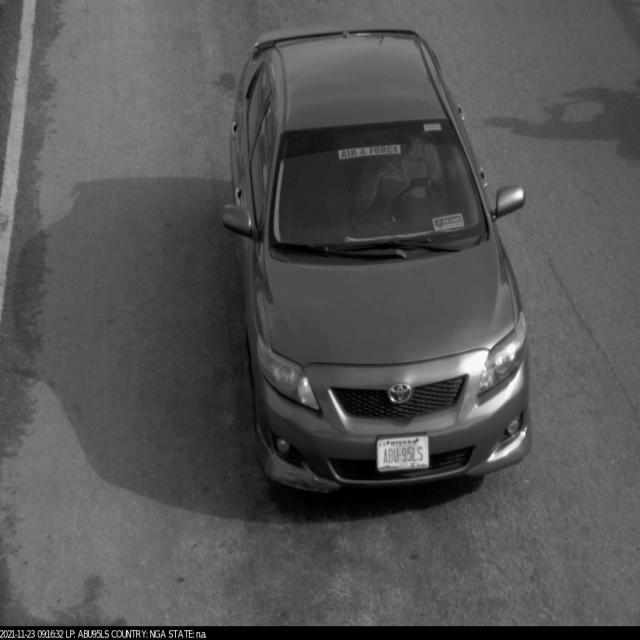windshield: (262, 113, 495, 278)
